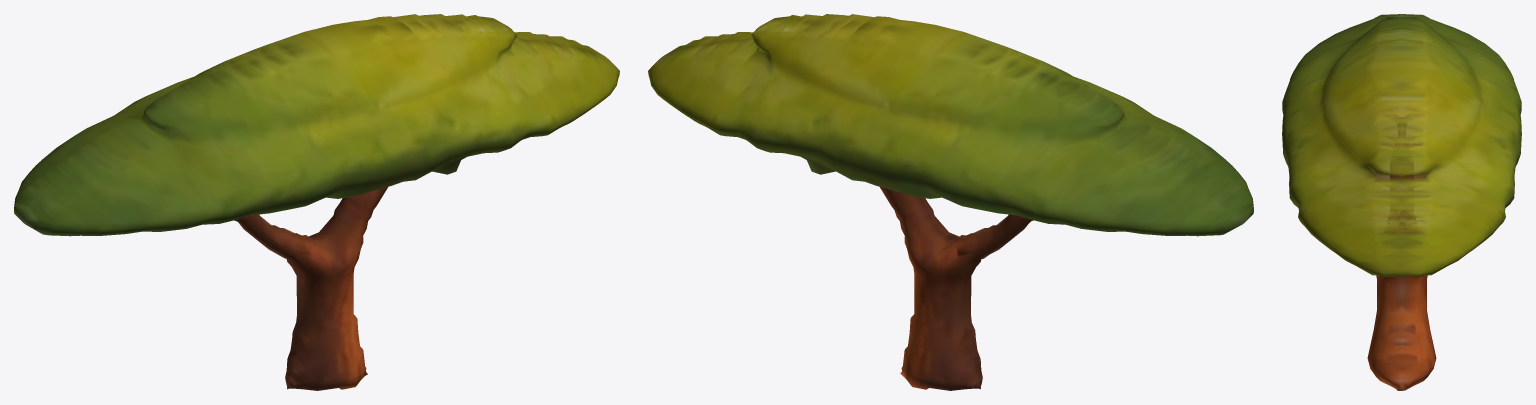
The model's file is 02_acacia_trees_r02_c00.glb.
3 views of the same model, side by side, from view 1: azimuth 30°, elevation 25°; view 2: azimuth 150°, elevation 25°; view 3: azimuth 270°, elevation 25° (orthographic). The views are drawn at different scales.
Visible parts, largest first — view 1: 02_acacia_trees_r02_c00; view 2: 02_acacia_trees_r02_c00; view 3: 02_acacia_trees_r02_c00.
Part boxes in pixels (x1,y1,x2,y2): 02_acacia_trees_r02_c00: [14, 14, 619, 390]; 02_acacia_trees_r02_c00: [648, 14, 1253, 390]; 02_acacia_trees_r02_c00: [1282, 14, 1521, 390].
Size of the model in its own units: 2.31 by 1.29 by 0.9028.
Materials: 1 (1 with a texture image).
